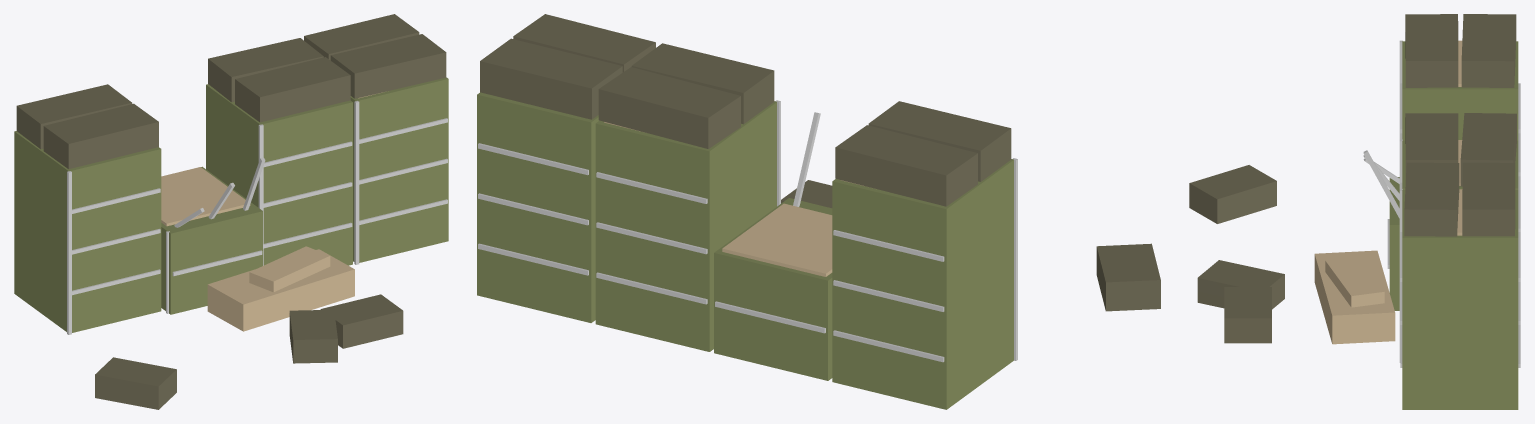
Rendered from SM_HescoCorto4_v3_RemateSacos_e1_Danado_LOD0.fbx.
3 renders of one model, left to right at view 1: azimuth 30°, elevation 25°; view 2: azimuth 150°, elevation 25°; view 3: azimuth 270°, elevation 25°, orthographic. The views are drawn at different scales.
Visible parts, largest first — view 1: SM_hesco_piezas_v113_LOD0; view 2: SM_hesco_piezas_v113_LOD0; view 3: SM_hesco_piezas_v113_LOD0.
Boxes of the visible parts, bbox=[...] form: SM_hesco_piezas_v113_LOD0: bbox=[14, 14, 448, 409]; SM_hesco_piezas_v113_LOD0: bbox=[477, 14, 1160, 409]; SM_hesco_piezas_v113_LOD0: bbox=[1189, 14, 1520, 409].
Size of the model in its own units: 4.94 by 2.09 by 3.14.
